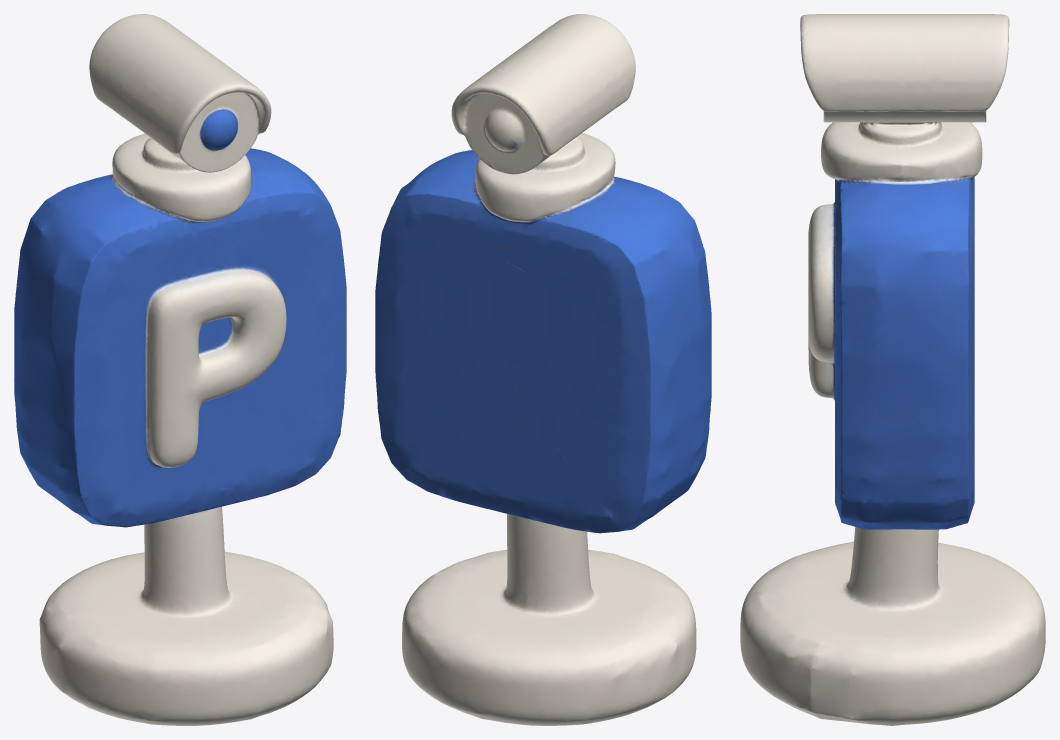
The model's file is parkflux.glb.
3 renders of one model, left to right at view 1: azimuth 30°, elevation 25°; view 2: azimuth 150°, elevation 25°; view 3: azimuth 270°, elevation 25°, orthographic. The views are drawn at different scales.
Bounding box in the file's own units: 0.9137 × 1.9 × 0.8038.
Materials: 1 (1 with a texture image).
